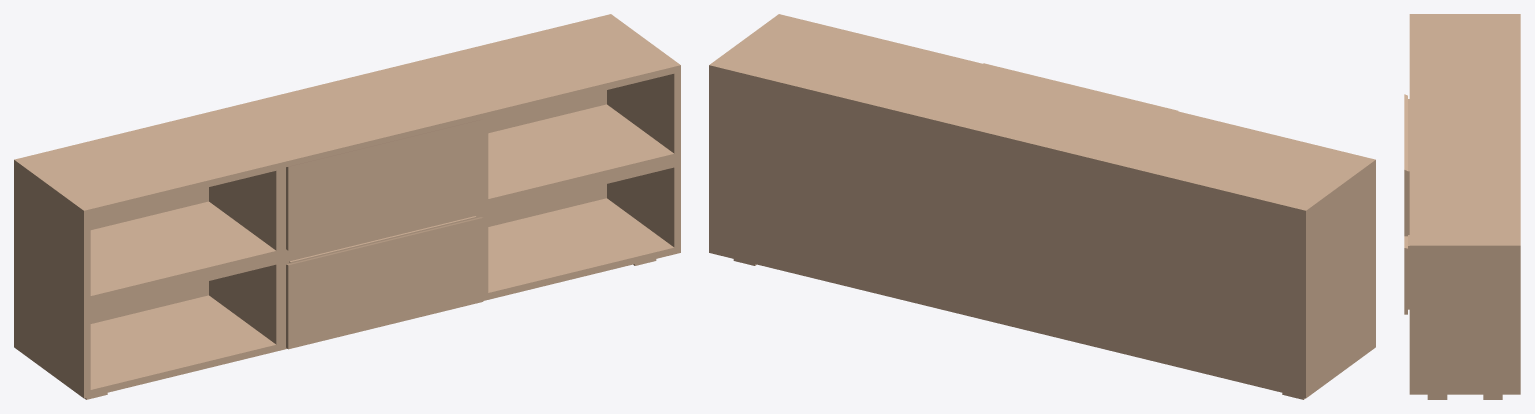
The model's file is tvfurniture.gltf.
3 renders of one model, left to right at view 1: azimuth 30°, elevation 25°; view 2: azimuth 150°, elevation 25°; view 3: azimuth 270°, elevation 25°, orthographic. The views are drawn at different scales.
Parts seen in each view (by area): view 1: Cube; view 2: Cube; view 3: Cube.
Boxes of the visible parts, x1=… form: Cube: x1=14, y1=14, x2=680, y2=399; Cube: x1=709, y1=14, x2=1375, y2=399; Cube: x1=1404, y1=14, x2=1520, y2=399.
Size of the model in its own units: 2 by 0.6429 by 0.4257.
Materials: 1 (1 with a texture image).
